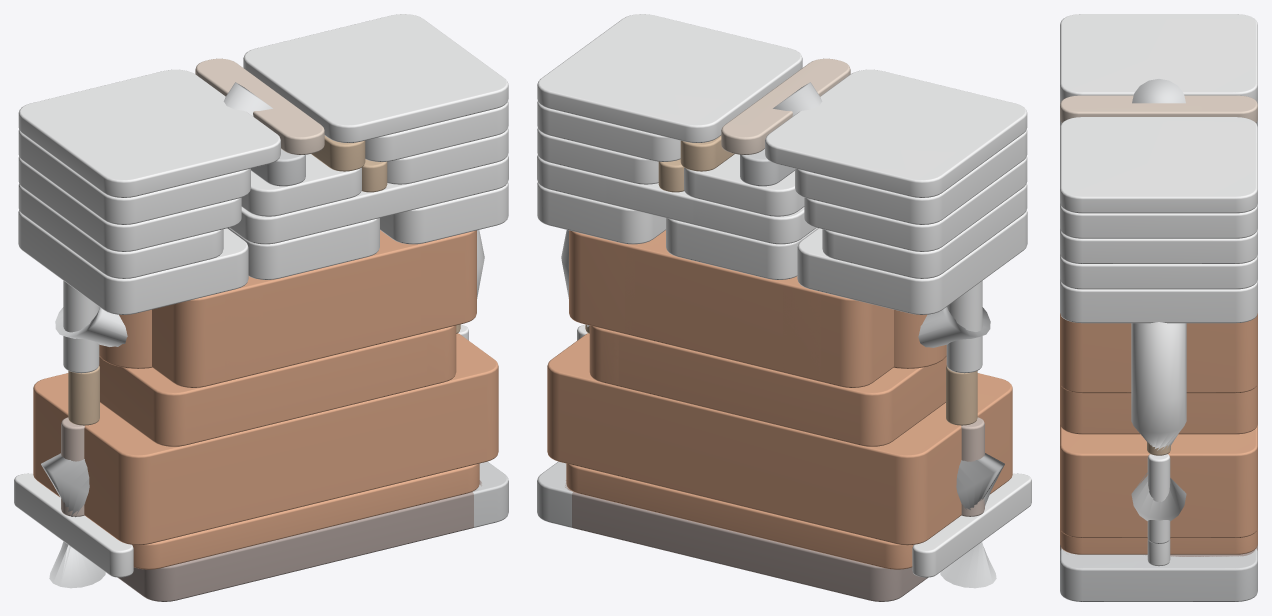
Rendered from art-101-face_spatial_decomposed.glb.
3 renders of one model, left to right at view 1: azimuth 30°, elevation 25°; view 2: azimuth 150°, elevation 25°; view 3: azimuth 270°, elevation 25°, orthographic. The views are drawn at different scales.
Visible parts, largest first — view 1: Element_Lateral_3_2, Element_Lateral_5_4, Element_Lateral_10_1, Element_Lateral_10_3, Element_Lateral_4_2, Element_Lateral_1_2, Element_Lateral_2_2, Element_Lateral_6_1, Element_Lateral_9_1, Element_Lateral_8_1, Anse_Courbee_Gauche, Element_Lateral_7_1 (+21 smaller); view 2: Element_Lateral_3_2, Element_Lateral_5_4, Element_Lateral_10_1, Element_Lateral_10_3, Element_Lateral_4_2, Element_Lateral_1_2, Element_Lateral_2_2, Element_Lateral_6_1, Element_Lateral_9_1, Element_Lateral_8_1, Element_Lateral_5_5, Anse_Courbee_Gauche (+21 smaller); view 3: Element_Lateral_10_3, Element_Lateral_3_2, Element_Lateral_10_1, Element_Lateral_5_5, Element_Lateral_1_3, Anse_Courbee_Droite, Element_Lateral_6_3, Element_Lateral_4_3, Element_Lateral_7_5, Element_Lateral_8_4, Element_Lateral_9_4, Element_Lateral_10_2 (+4 smaller).
Part boxes in pixels (box(x1,y1,x2,y2)): Element_Lateral_3_2: box(33, 333, 498, 545); Element_Lateral_5_4: box(152, 230, 420, 387); Element_Lateral_10_1: box(18, 69, 280, 197); Element_Lateral_10_3: box(243, 14, 508, 142); Element_Lateral_4_2: box(99, 333, 427, 446); Element_Lateral_1_2: box(118, 480, 481, 601); Element_Lateral_2_2: box(132, 463, 479, 569); Element_Lateral_6_1: box(18, 210, 248, 314); Element_Lateral_9_1: box(18, 129, 250, 224); Element_Lateral_8_1: box(18, 156, 241, 251); Anse_Courbee_Gauche: box(41, 82, 272, 588); Element_Lateral_7_1: box(18, 184, 223, 278); Element_Lateral_3_2: box(547, 333, 1012, 545); Element_Lateral_5_4: box(625, 235, 893, 387); Element_Lateral_10_1: box(765, 69, 1027, 197); Element_Lateral_10_3: box(537, 14, 802, 142); Element_Lateral_4_2: box(610, 332, 946, 446); Element_Lateral_1_2: box(565, 480, 927, 601); Element_Lateral_2_2: box(566, 463, 913, 569); Element_Lateral_6_1: box(797, 210, 1027, 314); Element_Lateral_9_1: box(795, 129, 1027, 224); Element_Lateral_8_1: box(804, 156, 1027, 251); Element_Lateral_5_5: box(569, 230, 665, 333); Anse_Courbee_Gauche: box(773, 82, 1004, 588); Element_Lateral_10_3: box(1060, 117, 1257, 213); Element_Lateral_3_2: box(1060, 424, 1257, 537); Element_Lateral_10_1: box(1060, 14, 1257, 101); Element_Lateral_5_5: box(1060, 313, 1257, 393); Element_Lateral_1_3: box(1060, 549, 1257, 601); Anse_Courbee_Droite: box(1131, 322, 1186, 521); Element_Lateral_6_3: box(1060, 279, 1257, 323); Element_Lateral_4_3: box(1060, 383, 1257, 434); Element_Lateral_7_5: box(1060, 254, 1257, 289); Element_Lateral_8_4: box(1060, 229, 1257, 263); Element_Lateral_9_4: box(1060, 203, 1257, 238); Element_Lateral_10_2: box(1060, 95, 1257, 122).
Bounding box in the file's own units: 0.2113 × 0.2176 × 0.0885.
